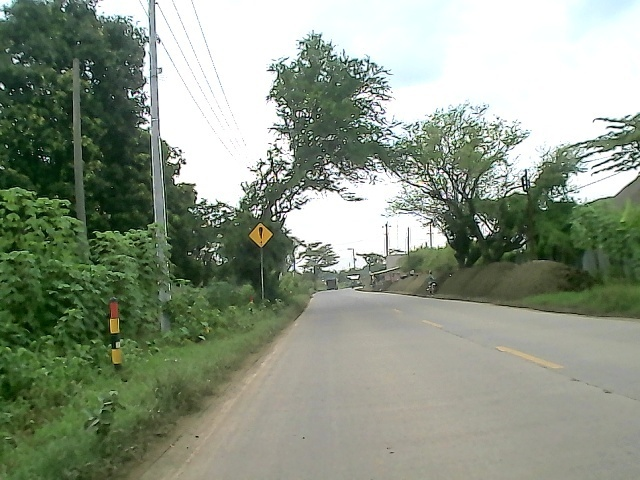Hati-hati: (248, 221, 275, 249)
